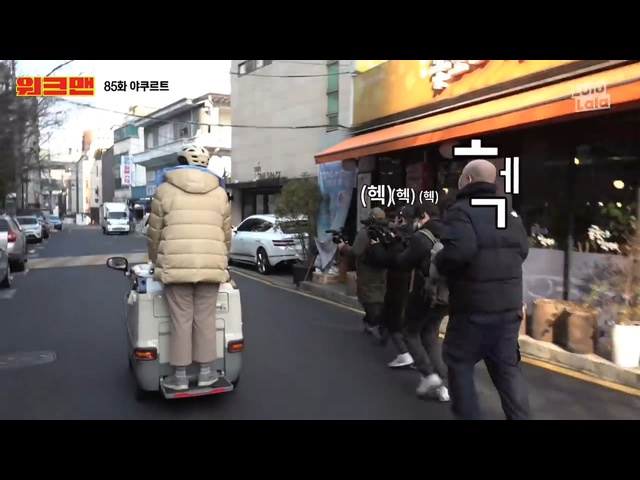Yakurut: (156, 153, 239, 392)
